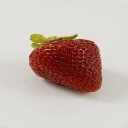strawberry: (24, 36, 104, 92)
